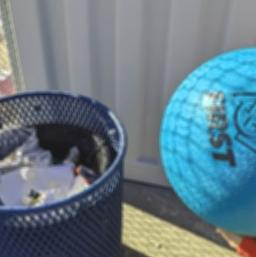algae: (161, 46, 256, 238)
